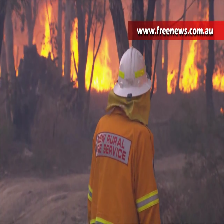fire_h: (69, 17, 114, 92), (180, 36, 199, 93), (40, 3, 55, 60), (212, 66, 224, 93)
fire_l: (167, 68, 175, 93), (153, 73, 157, 94), (61, 61, 65, 78), (161, 53, 165, 68)
